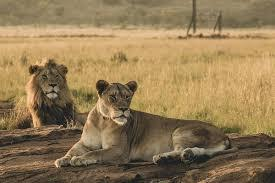lions: (87, 79, 234, 164), (14, 53, 79, 134)
